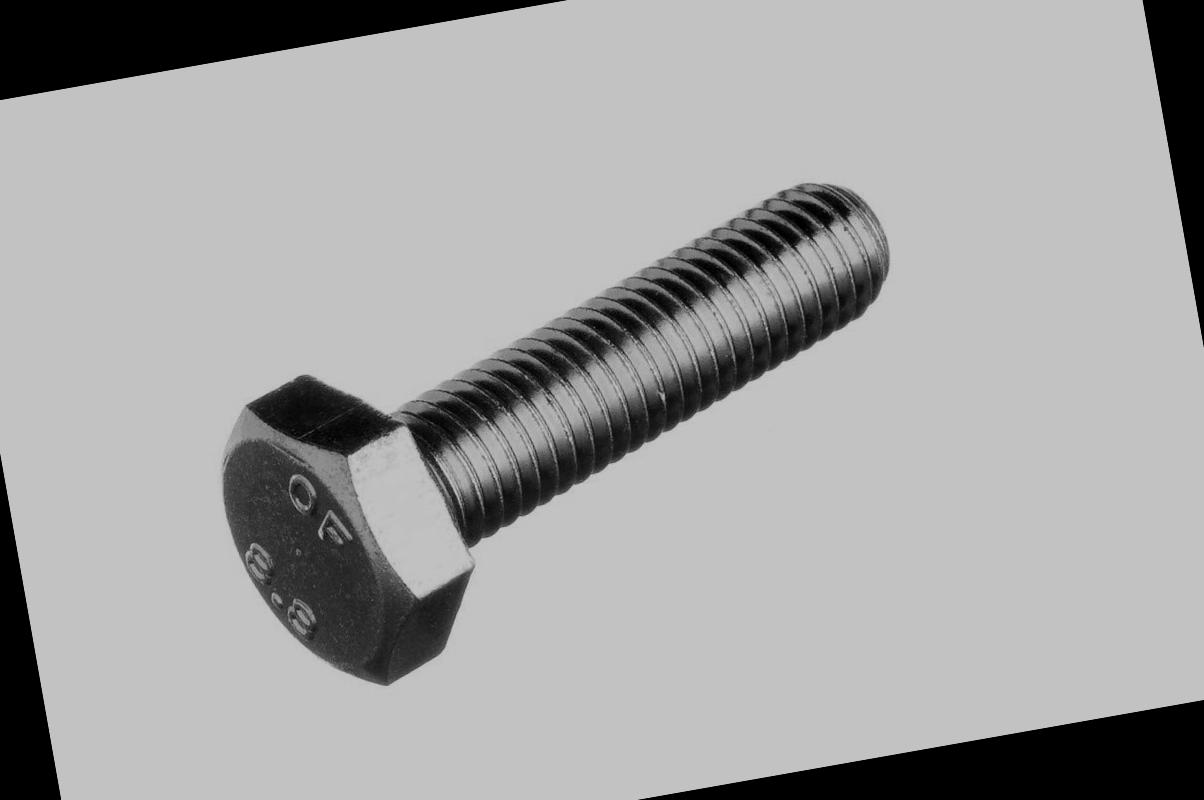screw: (203, 352, 492, 704)
